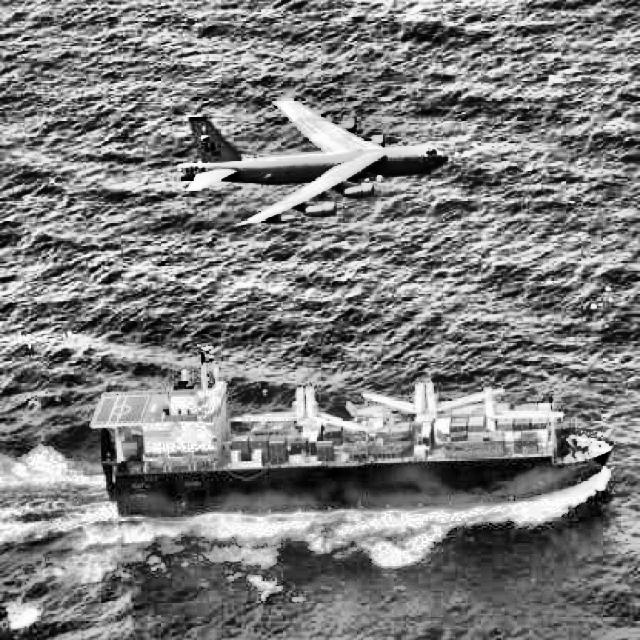B52: (178, 99, 448, 226)
